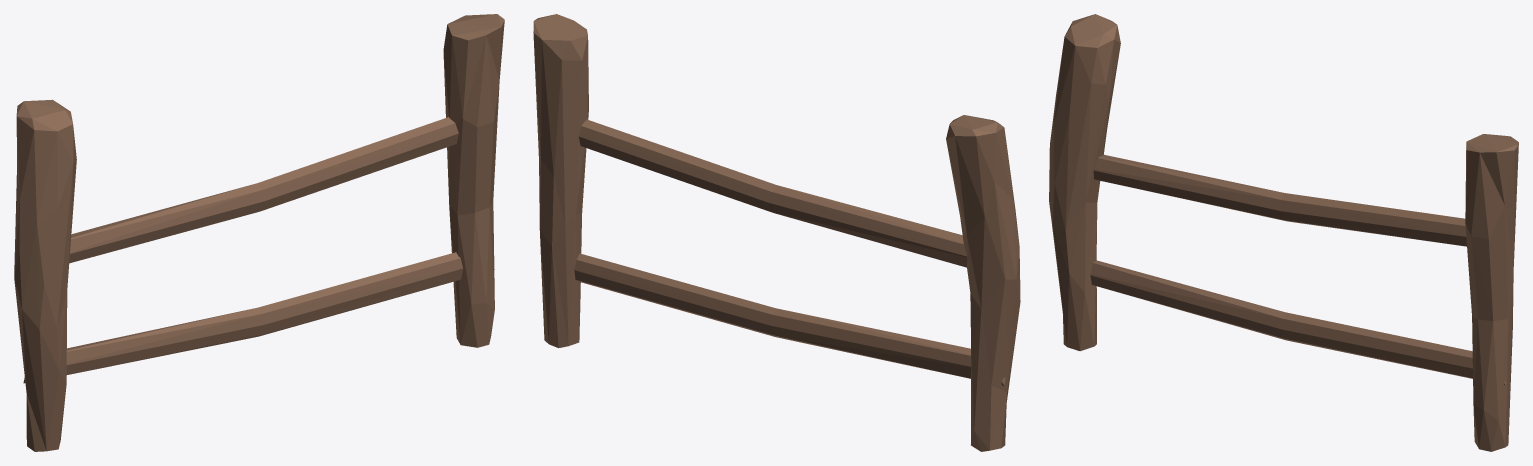
File: fence#001.glb
3 views of the same model, side by side, from view 1: azimuth 30°, elevation 25°; view 2: azimuth 150°, elevation 25°; view 3: azimuth 330°, elevation 25° (orthographic). The views are drawn at different scales.
Visible parts, largest first — view 1: Fence1; view 2: Fence1; view 3: Fence1.
Part boxes in pixels (left/top/right/bottom): Fence1: left=14, top=14, right=504, bottom=451; Fence1: left=533, top=14, right=1020, bottom=451; Fence1: left=1049, top=14, right=1518, bottom=451.
Bounding box in the file's own units: 4.24 × 2.77 × 0.5422.
